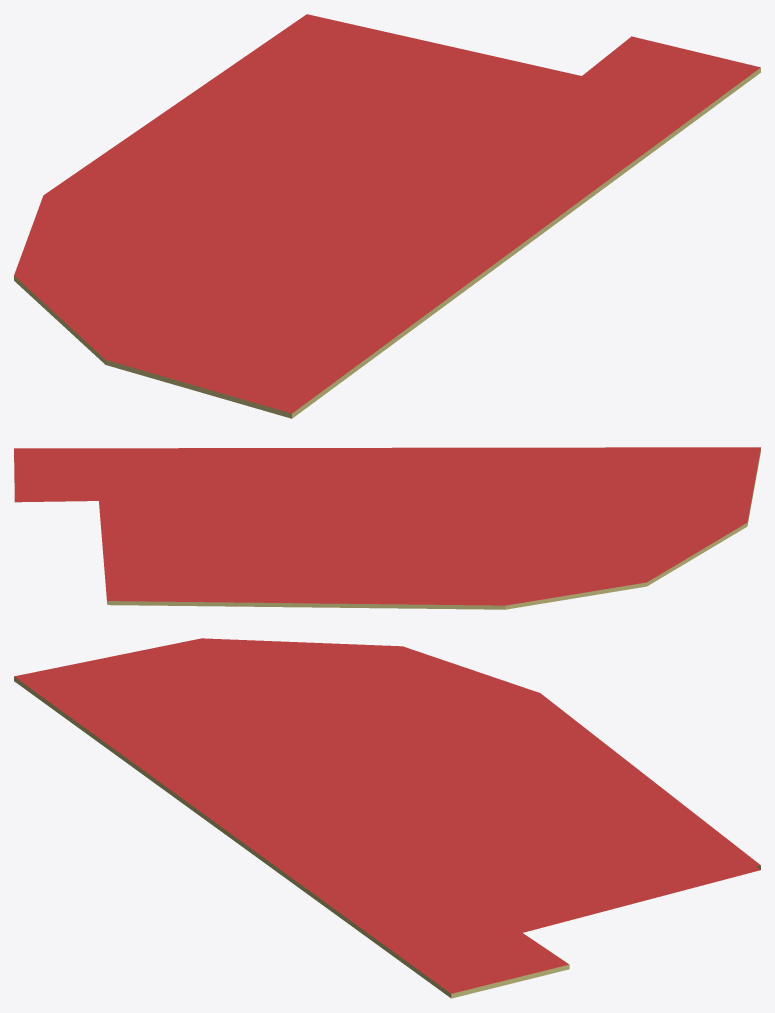
The picture shows the model from 3 angles, top to bottom: view 1: azimuth 30°, elevation 25°; view 2: azimuth 150°, elevation 25°; view 3: azimuth 270°, elevation 25°; orthographic projection. The views are drawn at different scales.
Bounding box in the file's own units: 15.96 × 14.17 × 0.1.
